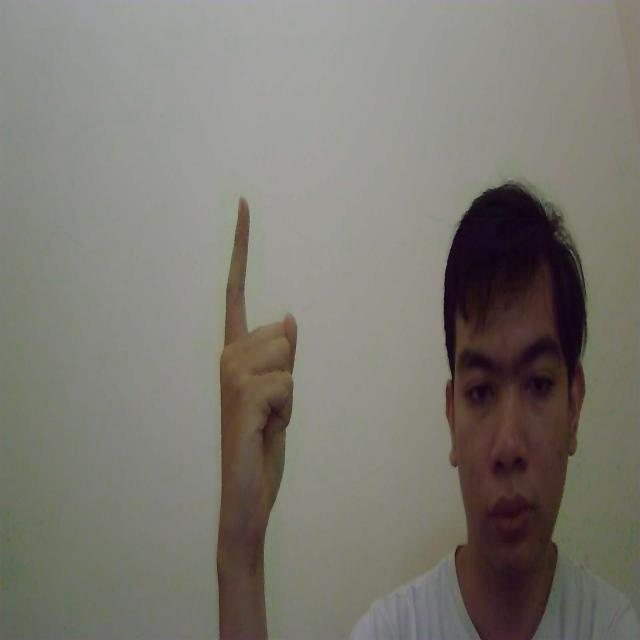D: (219, 194, 300, 539)
